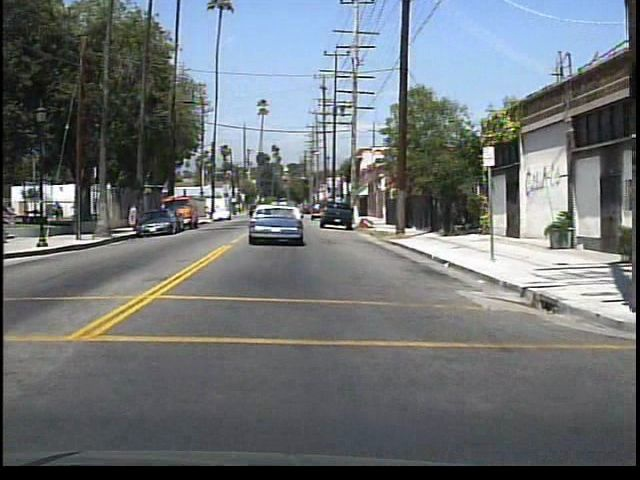person: (91, 196, 105, 222), (51, 199, 65, 222), (129, 200, 140, 229)
